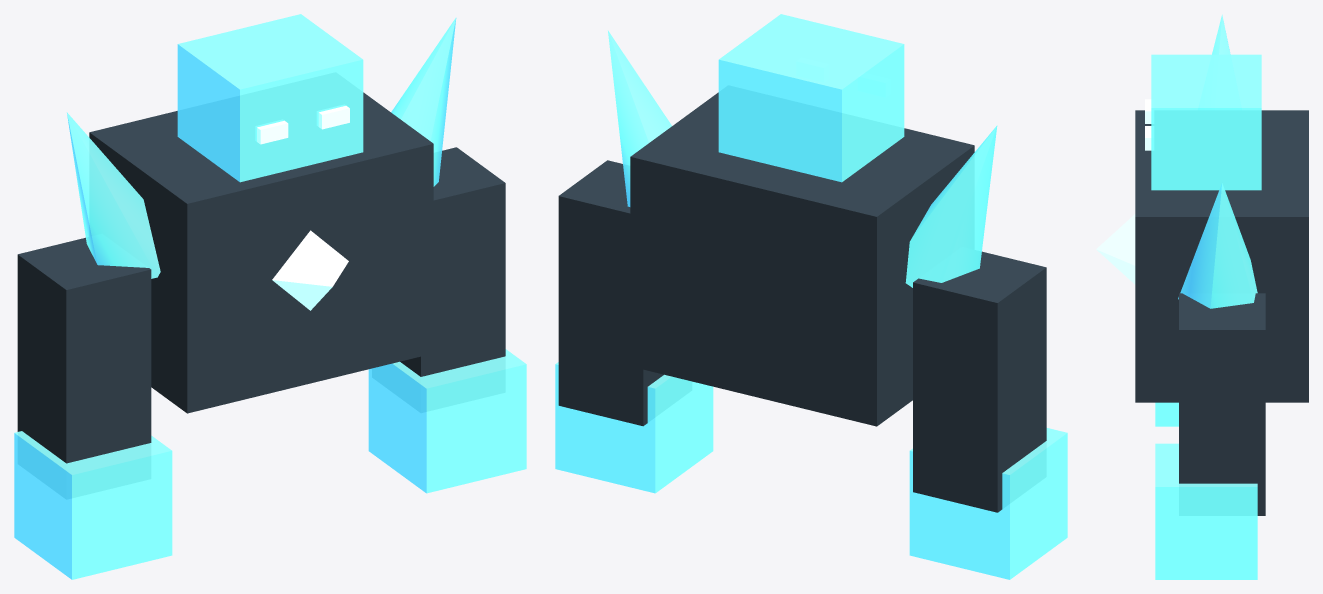
File: frost-golem.glb
3 views of the same model, side by side, from view 1: azimuth 30°, elevation 25°; view 2: azimuth 150°, elevation 25°; view 3: azimuth 270°, elevation 25° (orthographic). The views are drawn at different scales.
Parts seen in each view (by area): view 1: boss_frost_golem; view 2: boss_frost_golem; view 3: boss_frost_golem.
Part boxes in pixels (box(x1,y1,x2,y2)): boss_frost_golem: box(14, 14, 526, 579); boss_frost_golem: box(555, 14, 1067, 579); boss_frost_golem: box(1096, 14, 1308, 579).
Size of the model in its own units: 2.95 by 2.8 by 1.35.
